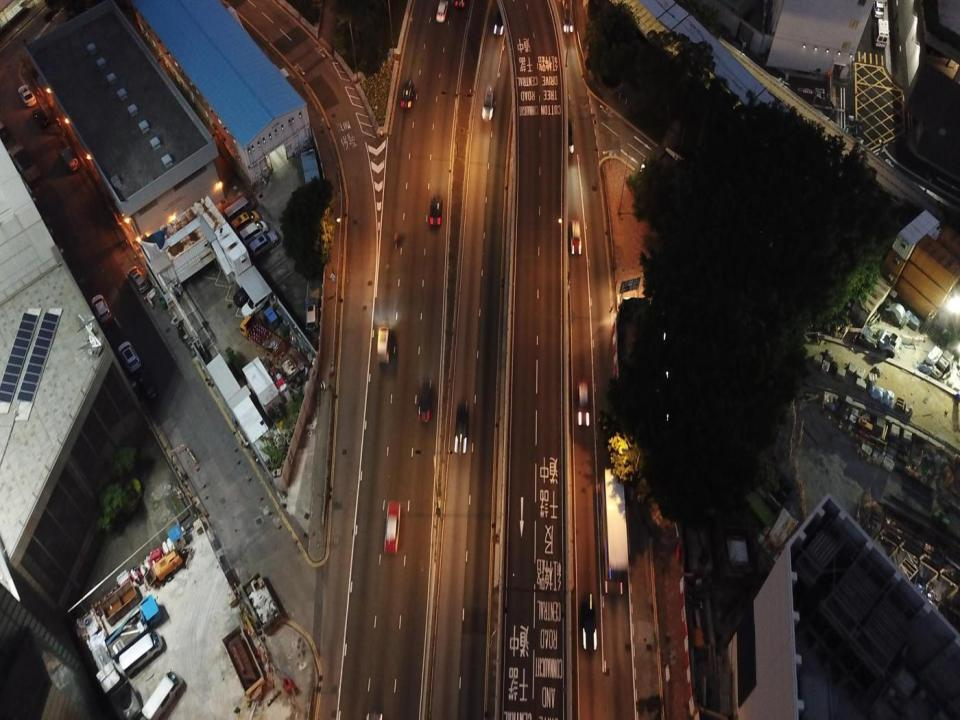bus: (602, 468, 627, 596)
car: (582, 593, 597, 651), (385, 502, 401, 554), (417, 377, 434, 423), (454, 403, 470, 451), (574, 383, 590, 425), (570, 220, 583, 257), (399, 76, 414, 108), (428, 195, 441, 226), (562, 3, 574, 36)
van: (141, 673, 185, 719), (120, 630, 164, 675), (377, 324, 394, 363), (481, 87, 495, 121), (493, 9, 508, 38), (435, 0, 449, 23)
